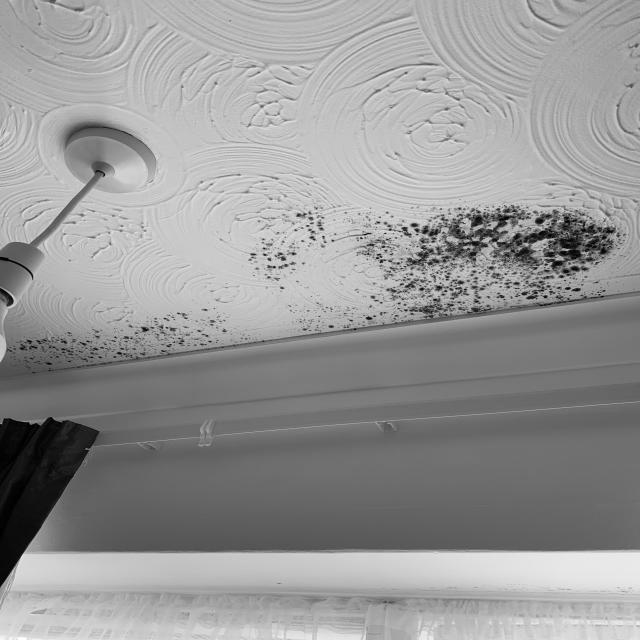stain marks: (380, 201, 626, 306)
